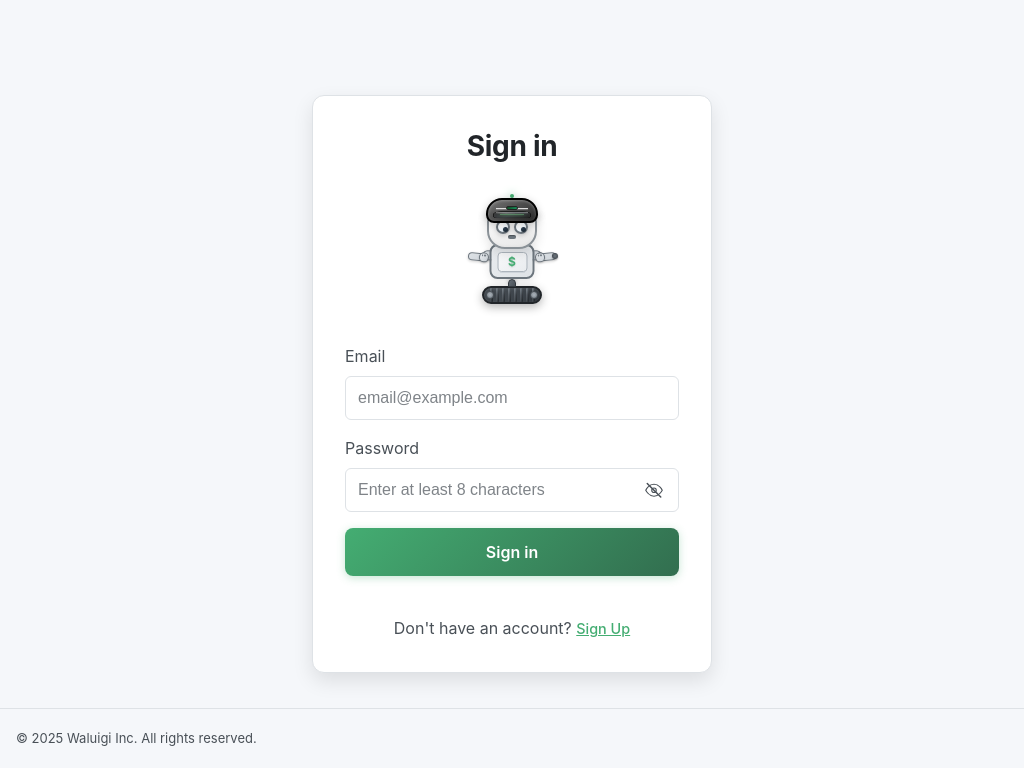
Scenario: Login Component › should toggle password visibility when eye icon is clicked
# Click the toggle button
Click the button named "show password" at (654, 490), box 641,477 -> 667,503
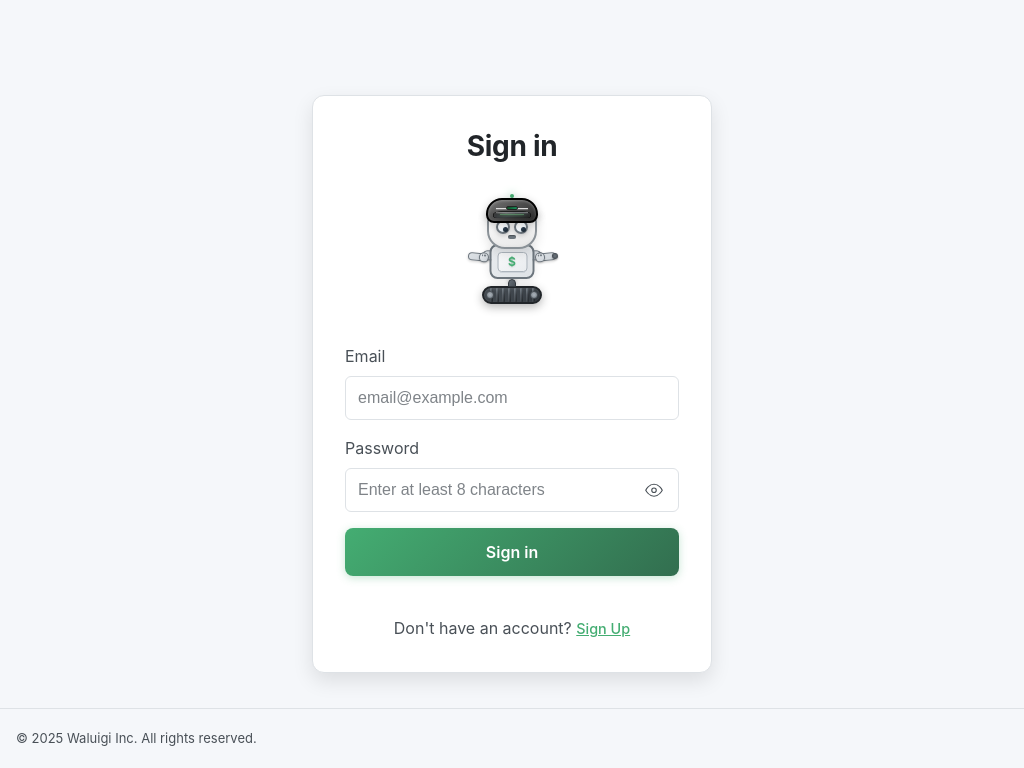
Now the button named "hide password" is shown, box 641,477 -> 667,503
